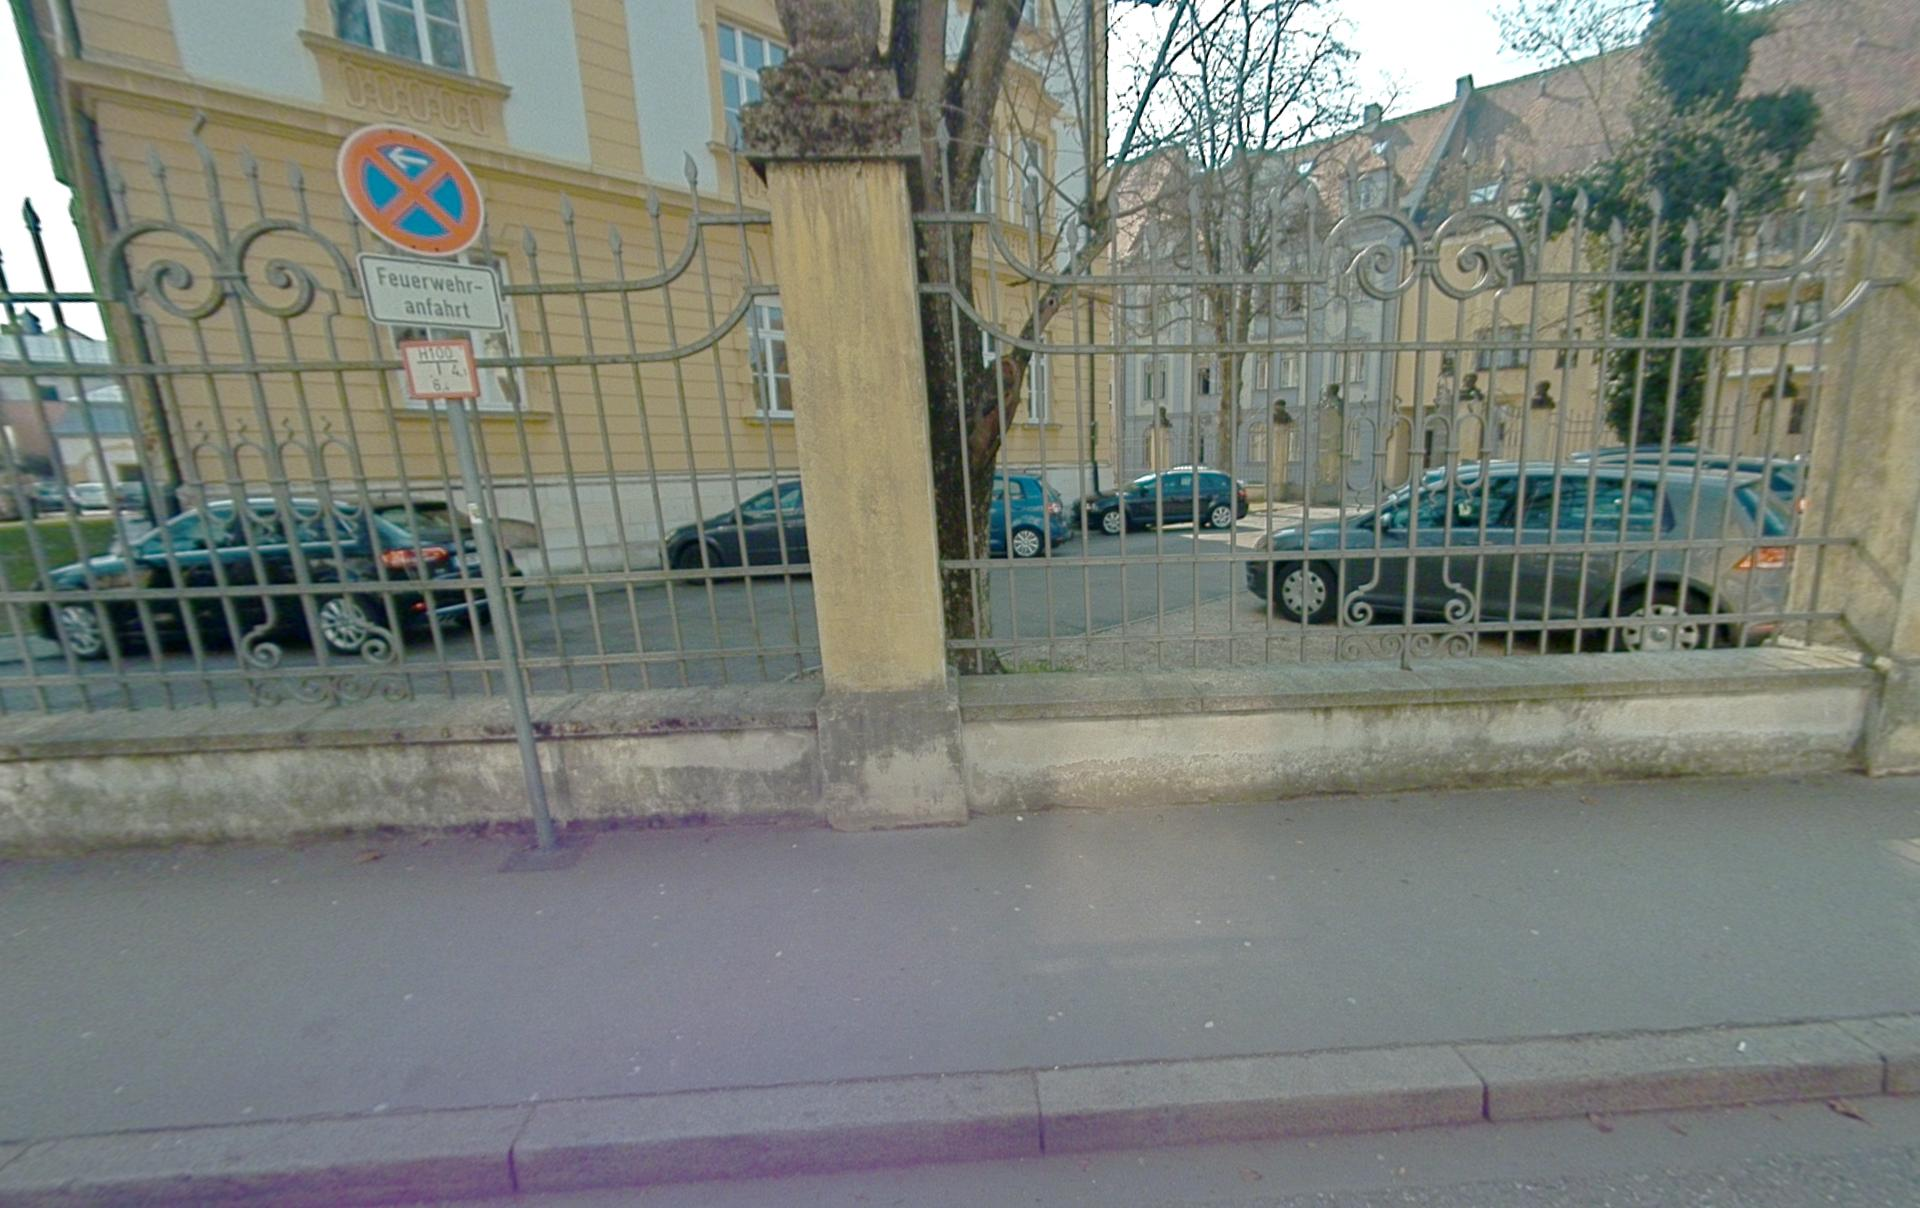car: (1245, 450, 1805, 653), (28, 493, 522, 667), (661, 470, 1071, 586), (1073, 465, 1249, 536), (988, 472, 1071, 558)
traffic sign: (356, 253, 505, 333), (399, 337, 480, 401)
